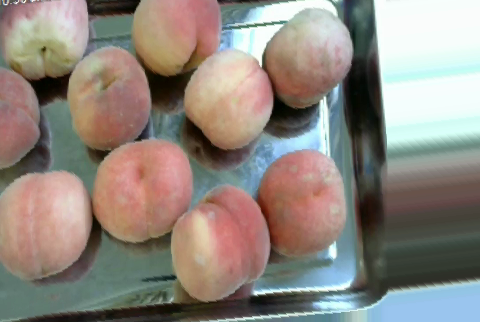Peach: (172, 185, 267, 304), (93, 138, 192, 241), (0, 170, 93, 279), (180, 49, 274, 150), (263, 5, 353, 107), (259, 150, 345, 256), (71, 45, 147, 149), (0, 0, 88, 78), (134, 0, 220, 72), (2, 65, 37, 174)
